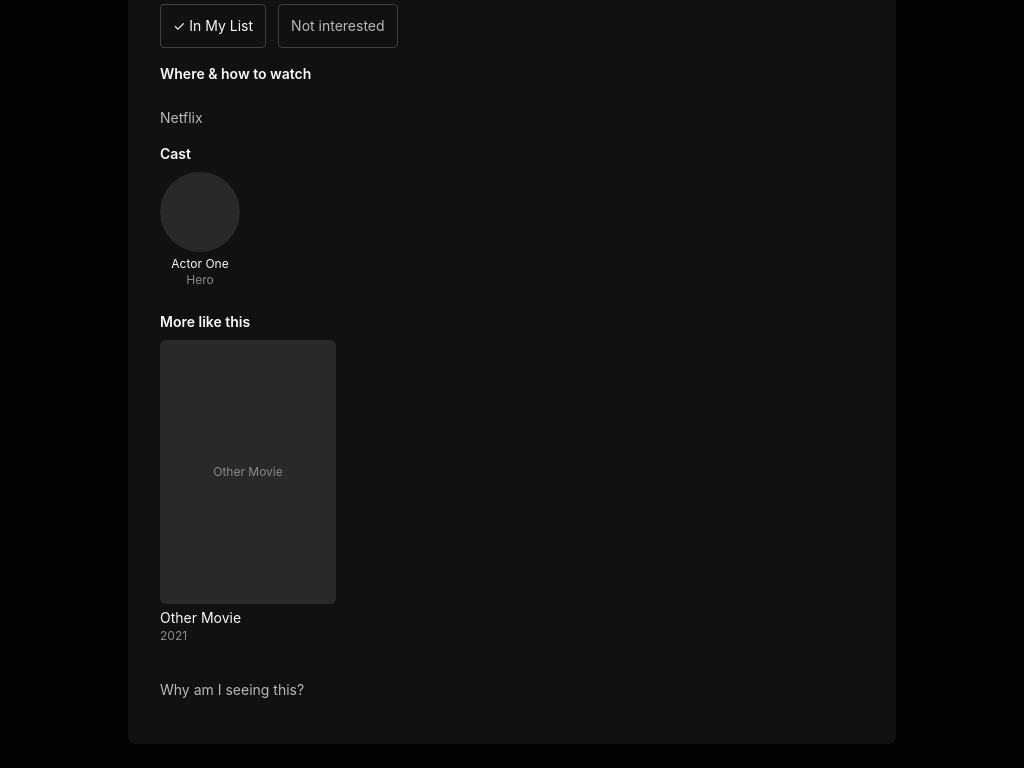
Test: toggle state resets when navigating between cached titles in-modal
The image size is (1024, 768).
(page scrolled)
Expected: the button "✓ In My List" is shown, [160, 4, 266, 48]
Step 1. Click the link "Other Movie Other Movie 2021" → (248, 492), box [160, 340, 336, 644]
(page scrolled)
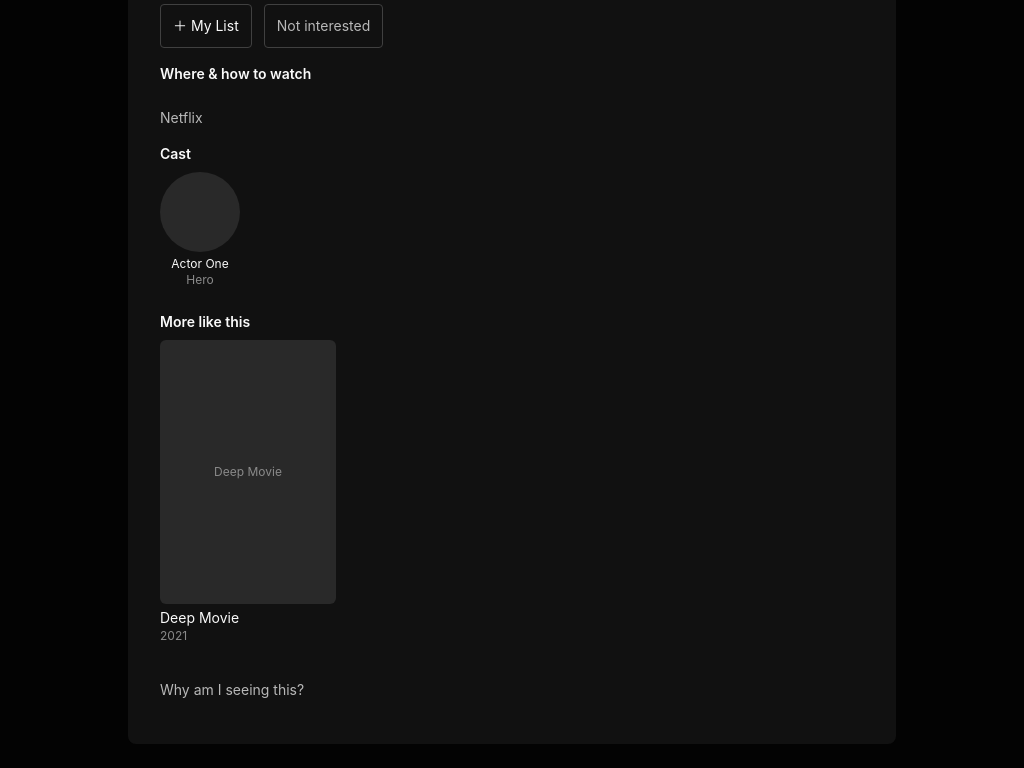
Result: the button "＋ My List" is shown at [160, 4, 252, 48]
Step 2. Click the link "Deep Movie Deep Movie 2021" → (248, 492), box [160, 340, 336, 644]
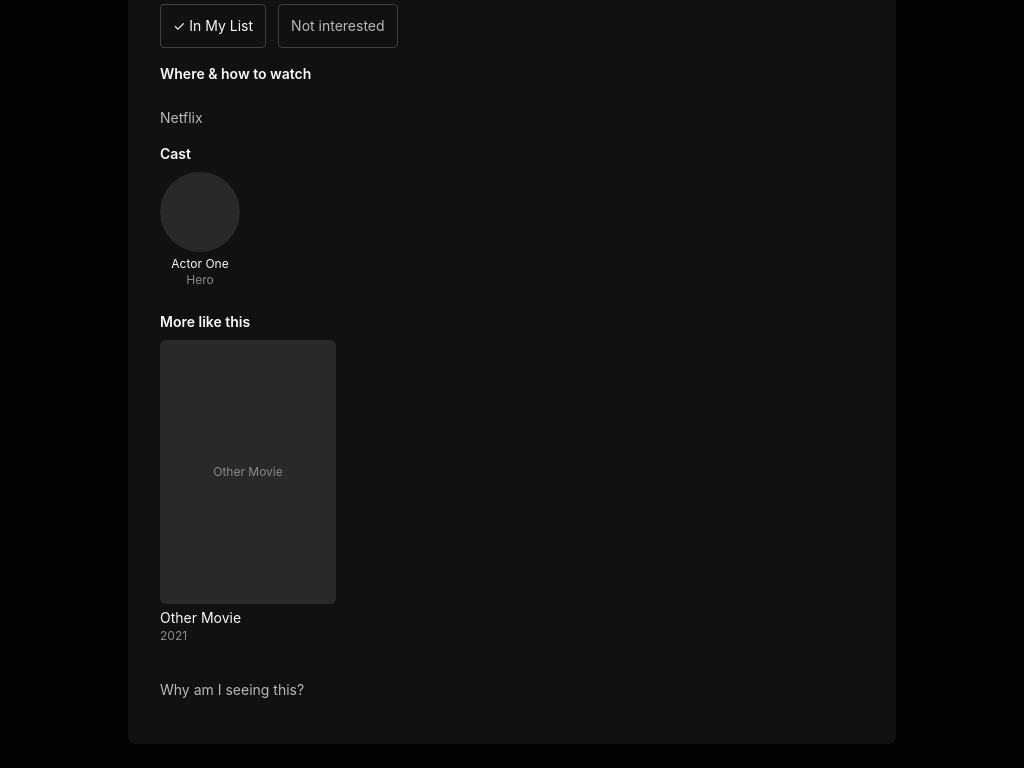
Result: the button "✓ In My List" is shown at [160, 4, 266, 48]
